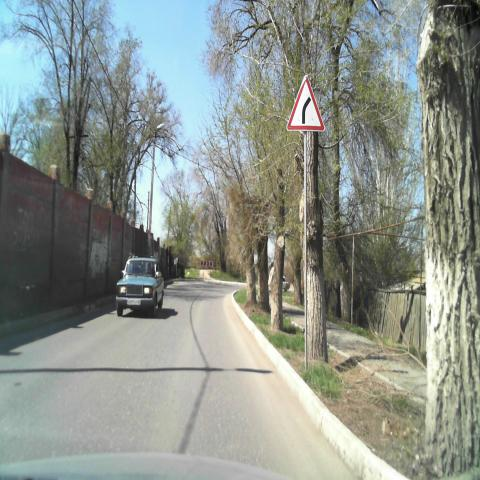1_11: (288, 76, 326, 134)
